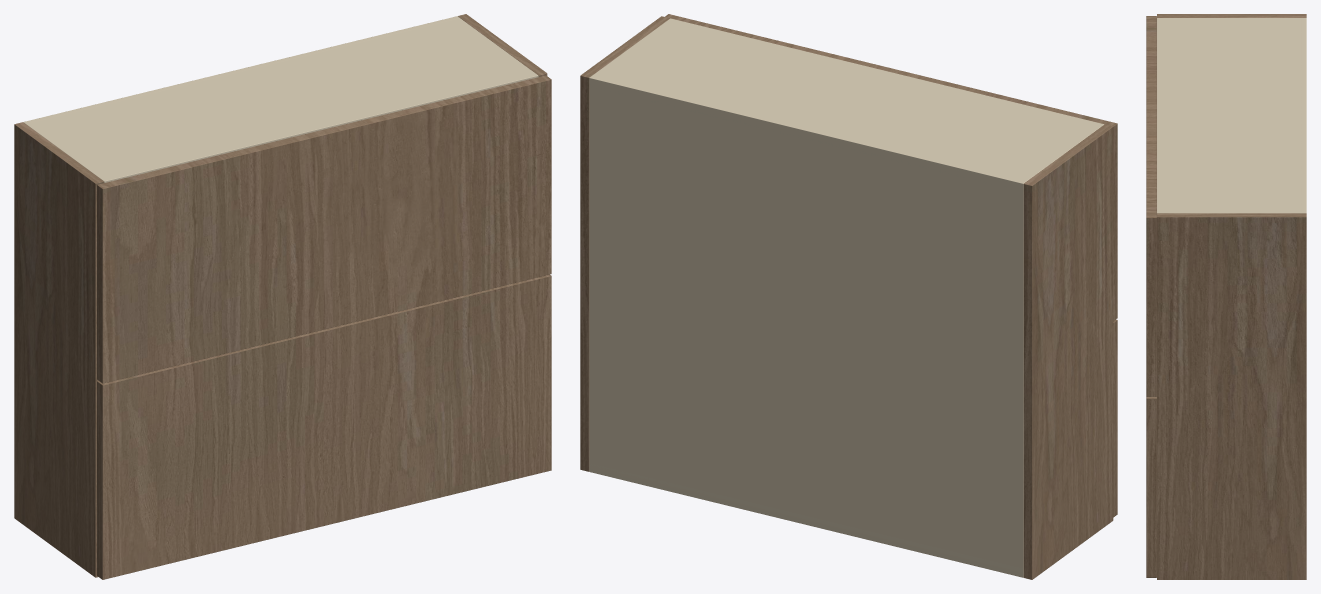
The model's file is oppein-ply-mnw-wbf3630.glb.
The picture shows the model from 3 angles, left to right: view 1: azimuth 30°, elevation 25°; view 2: azimuth 150°, elevation 25°; view 3: azimuth 270°, elevation 25°; orthographic projection. The views are drawn at different scales.
Visible parts, largest first — view 1: Door.001, Door, Cabinet top, Cabinet side, Cabinet back, Cabinet side.001; view 2: Cabinet back, Cabinet side, Cabinet top, Cabinet side.001, Cabinet bottom, Door.001, Door; view 3: Cabinet side.001, Cabinet top, Door.001, Door, Cabinet back, Cabinet side.
Part boxes in pixels (x1,y1,x2,y2): Door.001: (97, 75, 551, 383); Door: (97, 274, 551, 579); Cabinet top: (23, 18, 538, 182); Cabinet side: (14, 122, 104, 577); Cabinet back: (24, 16, 459, 124); Cabinet side.001: (458, 14, 547, 76); Cabinet back: (589, 75, 1025, 577); Cabinet side: (1023, 124, 1113, 579); Cabinet top: (589, 18, 1104, 191); Cabinet side.001: (580, 16, 669, 471); Cabinet bottom: (589, 464, 1023, 577); Door.001: (665, 14, 1117, 320); Door: (1113, 319, 1117, 517); Cabinet side.001: (1157, 213, 1306, 579); Cabinet top: (1157, 18, 1306, 213); Door.001: (1146, 16, 1156, 396); Door: (1146, 397, 1156, 577); Cabinet back: (1300, 18, 1306, 213); Cabinet side: (1157, 14, 1306, 17).
Bounding box in the file's own units: 0.9144 × 0.762 × 0.3048.
2 materials, 1 textured.
